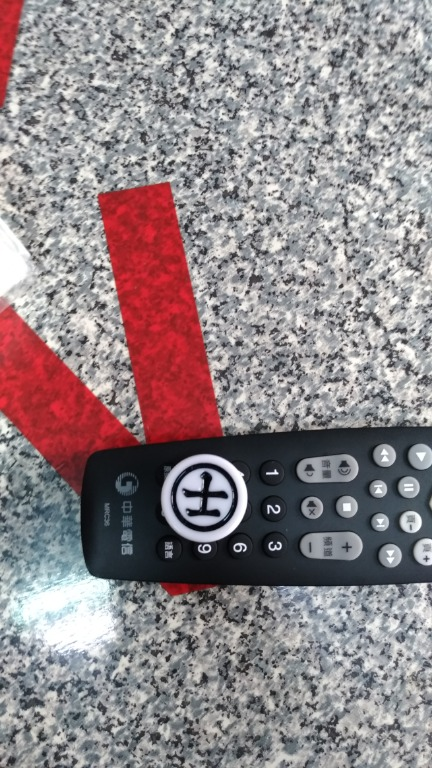b-advisor: (137, 448, 270, 551)
